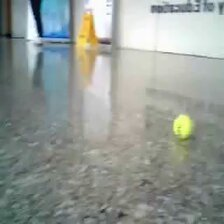tennis: (173, 113, 194, 141)
